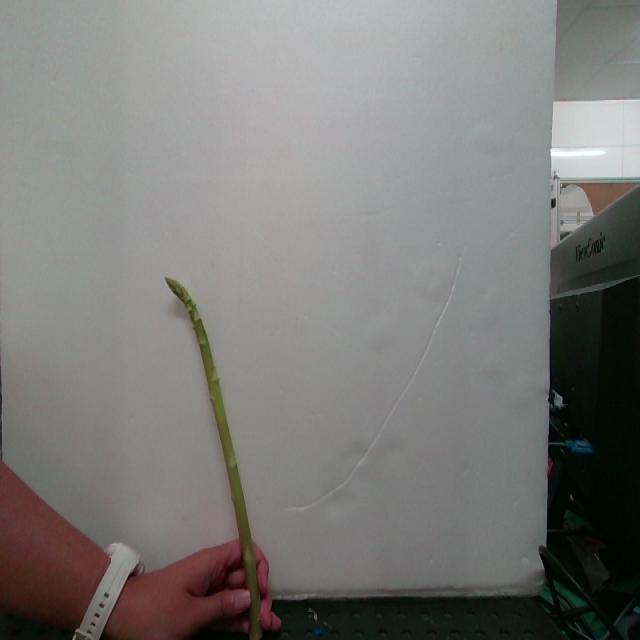aspargus: (163, 279, 262, 640)
